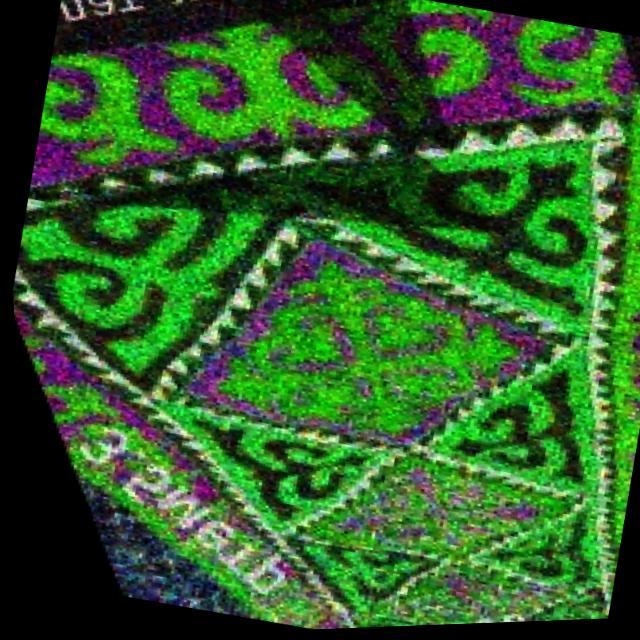Unity: (204, 255, 534, 442)
